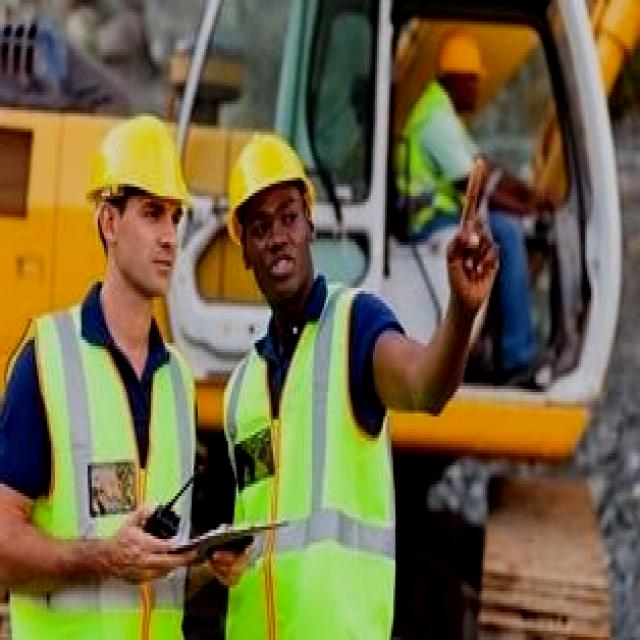helmet: (80, 113, 200, 229), (220, 132, 320, 258)
vest: (4, 291, 194, 640), (220, 285, 393, 640)
